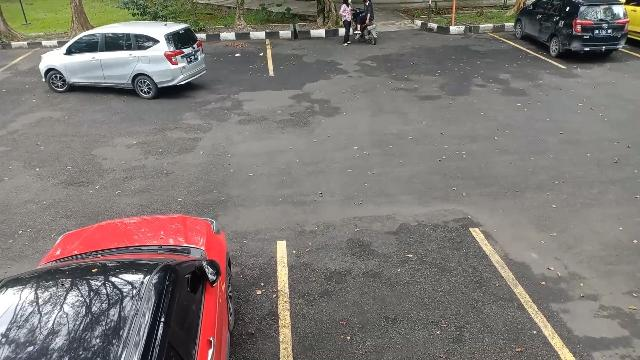empty: (277, 239, 518, 360)
occupied: (510, 0, 630, 68)
